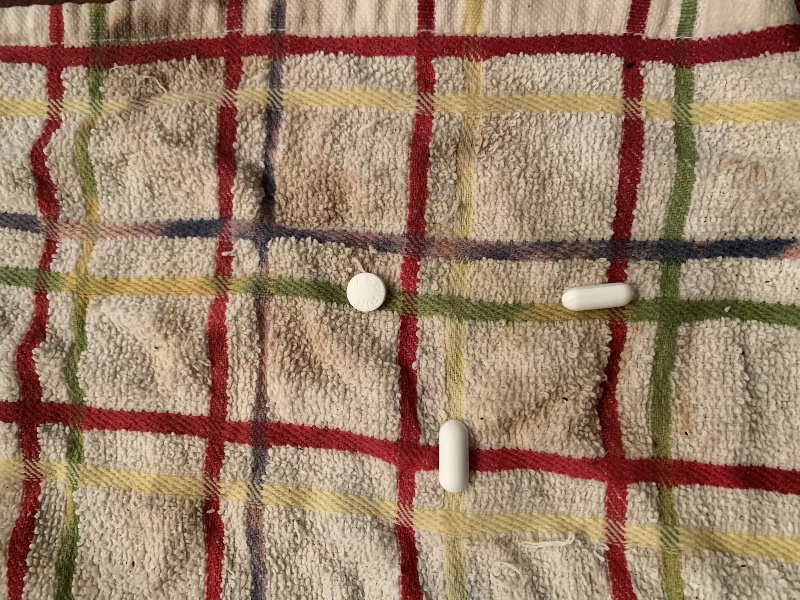Aspirin: (343, 270, 389, 317)
Tylenol: (435, 417, 474, 494), (558, 280, 639, 314)
